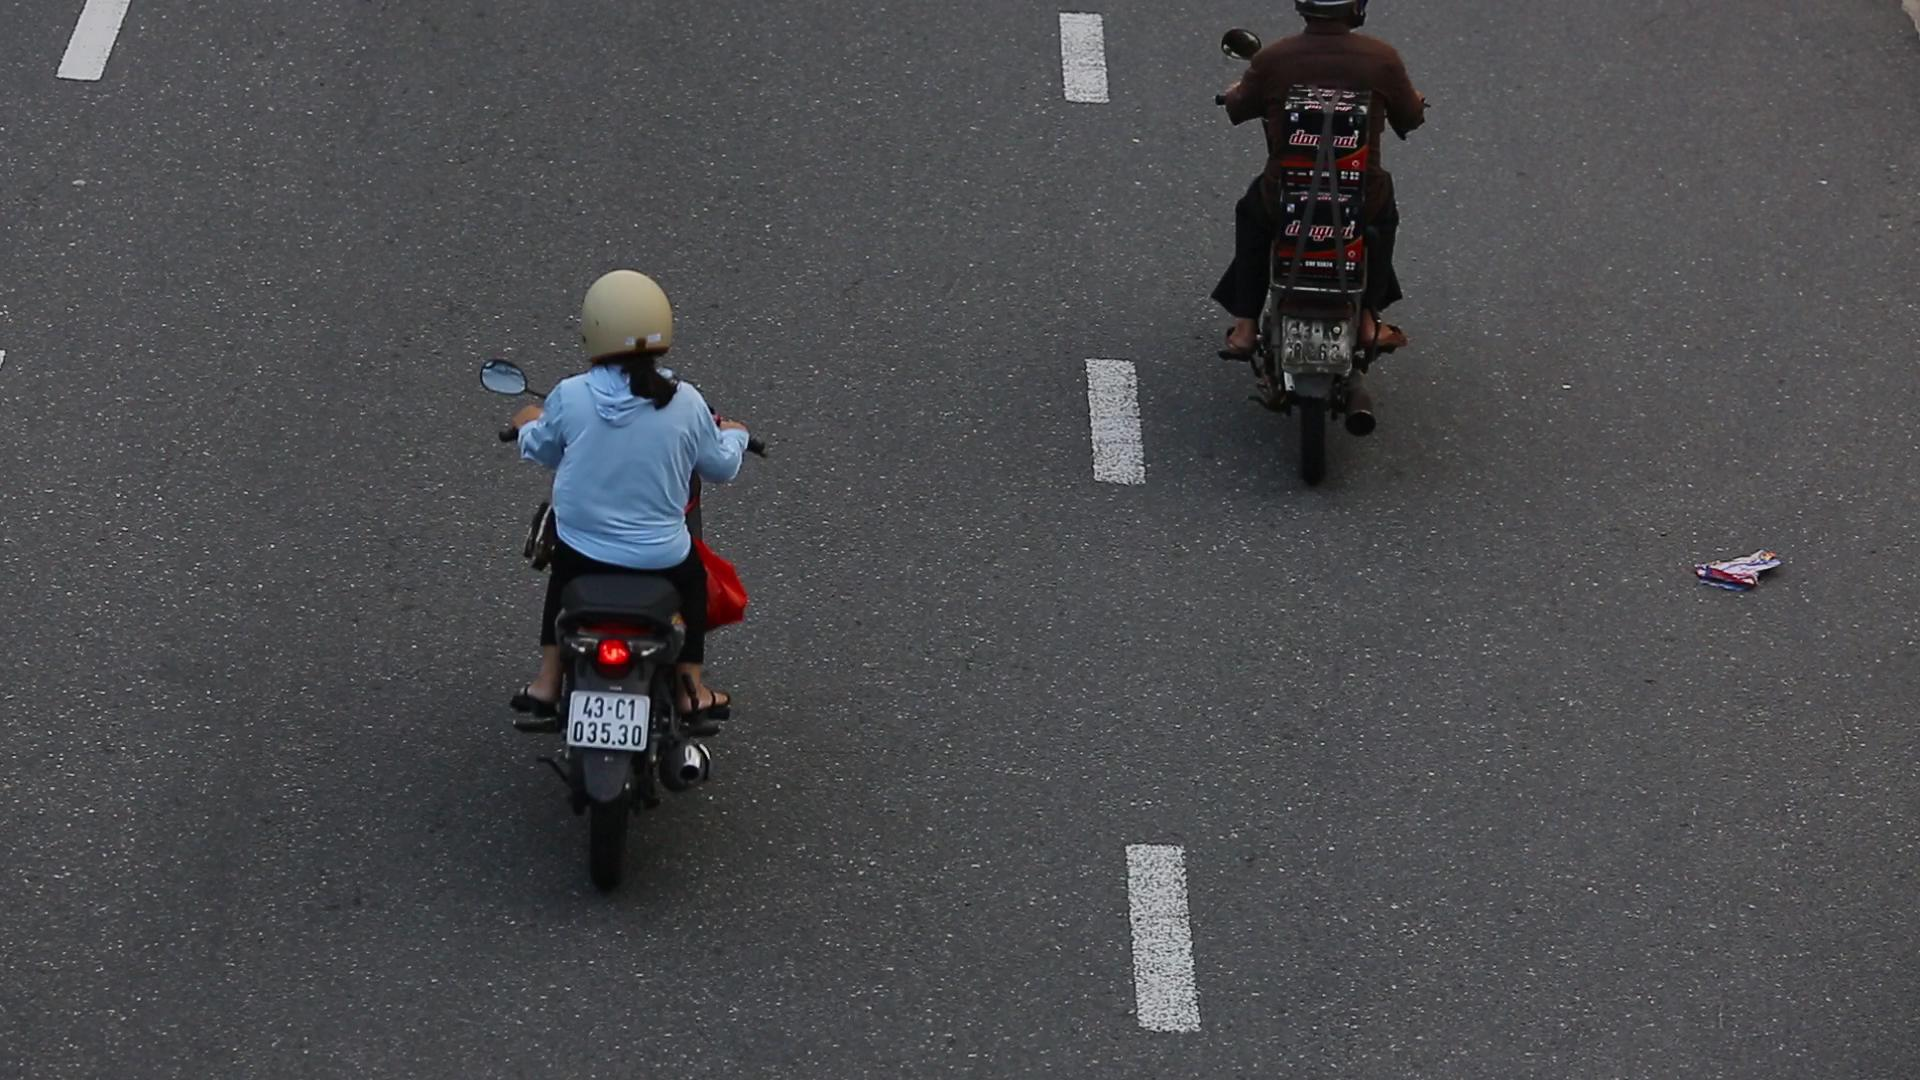motobike: (471, 257, 783, 927)
